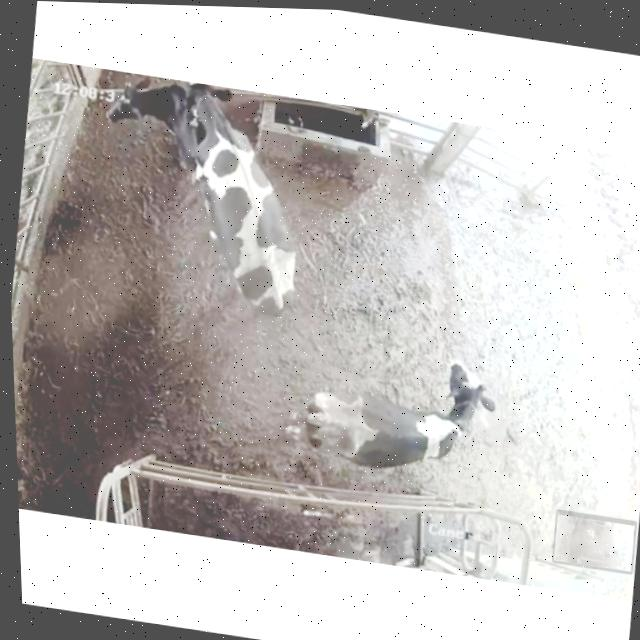ride: (153, 79, 330, 337)
